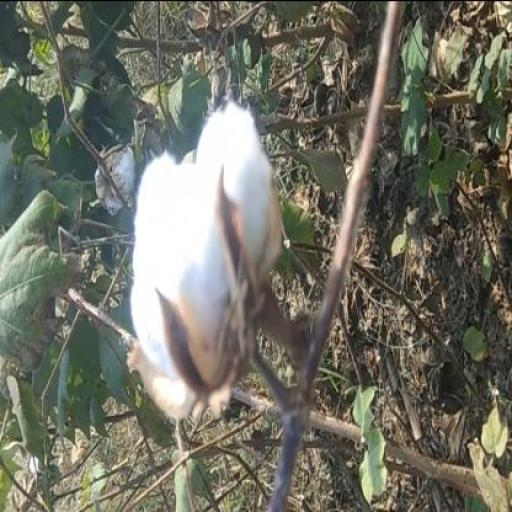cotton_ready: (109, 94, 373, 424), (94, 124, 340, 435)
